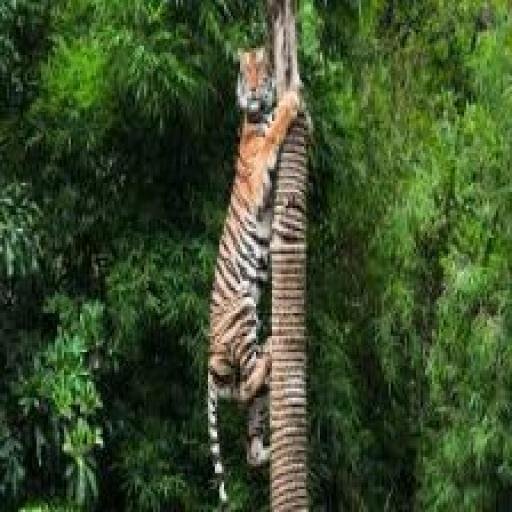Tiger: (210, 36, 303, 484)
